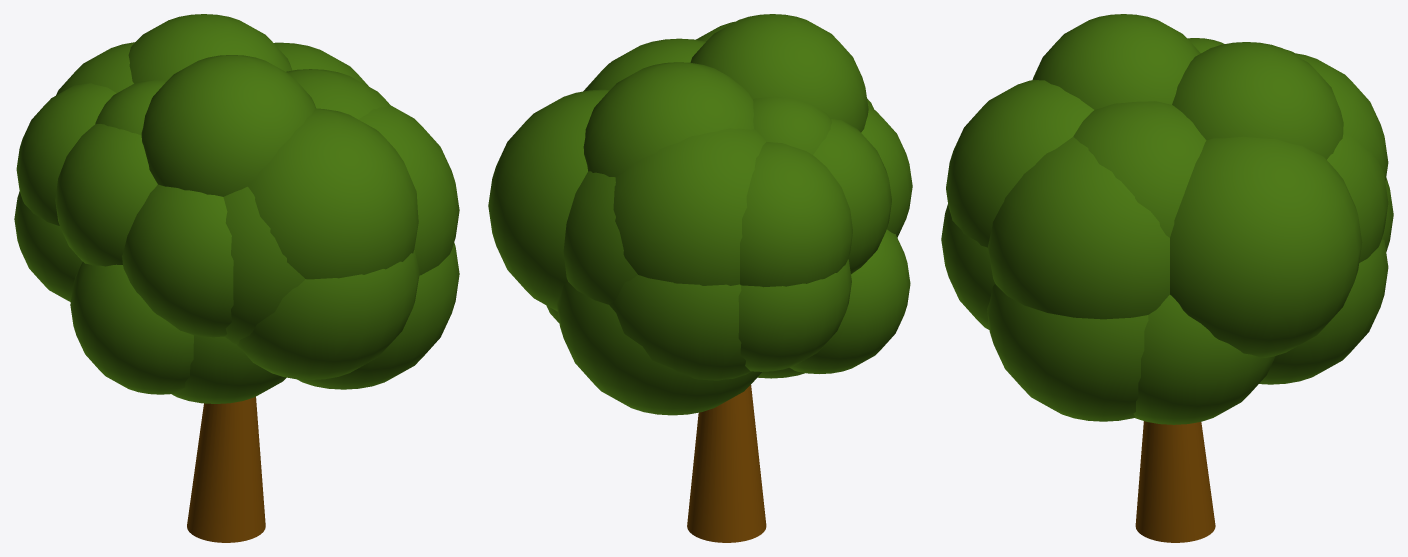
Rendered from Arbre low poly.fbx.
3 views of the same model, side by side, from view 1: azimuth 30°, elevation 25°; view 2: azimuth 150°, elevation 25°; view 3: azimuth 270°, elevation 25° (orthographic).
Visible parts, largest first — view 1: Sphère_32, Sphère_11, Sphère_30, Sphère_19, Sphère_15, Sphère_17, Cylindre, Sphère_27, Sphère_26, Sphère_18, Sphère_14, Sphère_28 (+6 smaller); view 2: Sphère_25, Sphère_33, Sphère_18, Sphère_14, Sphère_11, Sphère_35, Sphère_23, Cylindre, Sphère_16, Sphère_15, Sphère_34, Sphère_17 (+3 smaller); view 3: Sphère_33, Sphère_27, Sphère_28, Sphère_14, Sphère_32, Sphère_11, Sphère_29, Sphère_31, Cylindre, Sphère_35, Sphère_34, Sphère_30 (+1 smaller).
Boxes of the visible parts, x1,y1,x2,y2 form: Sphère_32: (248, 108, 418, 279); Sphère_11: (141, 55, 316, 196); Sphère_30: (237, 250, 419, 379); Sphère_19: (122, 184, 233, 337); Sphère_15: (70, 262, 193, 394); Sphère_17: (55, 124, 157, 266); Cylindre: (187, 397, 265, 542); Sphère_27: (358, 104, 459, 275); Sphère_26: (223, 186, 304, 344); Sphère_18: (16, 83, 116, 225); Sphère_14: (128, 14, 292, 83); Sphère_28: (297, 243, 459, 389); Sphère_25: (613, 128, 766, 285); Sphère_33: (488, 89, 609, 311); Sphère_18: (740, 142, 852, 287); Sphère_14: (583, 62, 753, 177); Sphère_11: (690, 14, 868, 132); Sphère_35: (557, 282, 761, 415); Sphère_23: (609, 275, 751, 380); Cylindre: (687, 385, 766, 542); Sphère_16: (738, 259, 851, 371); Sphère_15: (789, 229, 910, 373); Sphère_34: (563, 171, 637, 304); Sphère_17: (813, 119, 891, 274); Sphère_33: (1170, 136, 1362, 357); Sphère_27: (988, 137, 1169, 319); Sphère_28: (987, 284, 1148, 421); Sphère_14: (1172, 42, 1343, 159); Sphère_32: (946, 80, 1093, 247); Sphère_11: (1032, 14, 1200, 109); Sphère_29: (1133, 295, 1275, 424); Sphère_31: (1073, 101, 1206, 237); Cylindre: (1135, 421, 1215, 542); Sphère_35: (1259, 239, 1388, 384); Sphère_34: (1327, 133, 1388, 262); Sphère_30: (941, 204, 994, 329).
Size of the model in its own units: 530 by 715 by 594.
